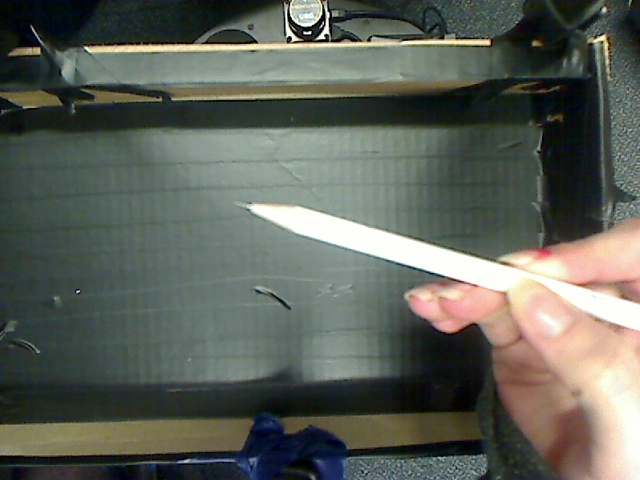pencil: (209, 170, 640, 325)
